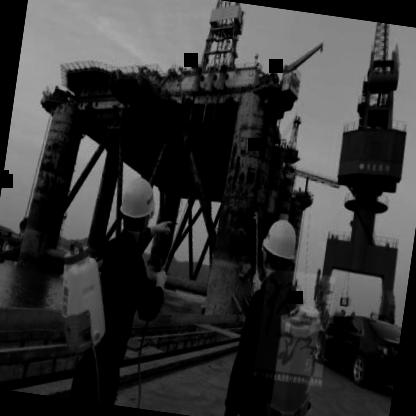helmet: (104, 164, 166, 244), (254, 213, 301, 283)
